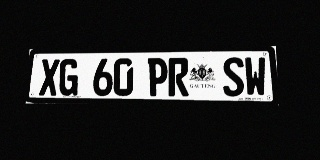0: (113, 58, 133, 96)
6: (93, 58, 113, 96)
G: (58, 59, 79, 96)
P: (147, 58, 168, 96)
R: (168, 58, 189, 96)
S: (222, 57, 245, 96)
W: (244, 57, 267, 97)
X: (39, 59, 60, 96)
